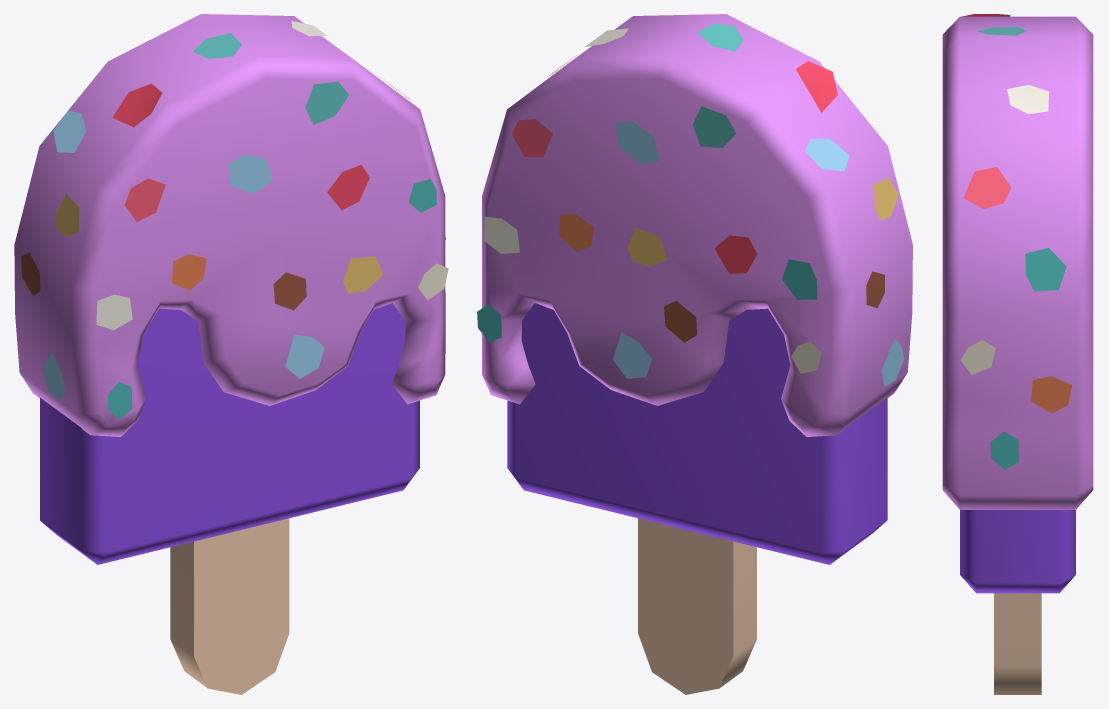
File: HandAcc_2.fbx
3 renders of one model, left to right at view 1: azimuth 30°, elevation 25°; view 2: azimuth 150°, elevation 25°; view 3: azimuth 270°, elevation 25°, orthographic.
Parts seen in each view (by area): view 1: HandAcc_2; view 2: HandAcc_2; view 3: HandAcc_2.
Boxes of the visible parts, box(x1,y1,x2,y2) form: HandAcc_2: box(14, 14, 448, 694); HandAcc_2: box(477, 14, 912, 694); HandAcc_2: box(942, 14, 1093, 694).
Bounding box in the file's own units: 20.18 × 33.37 × 7.06.
